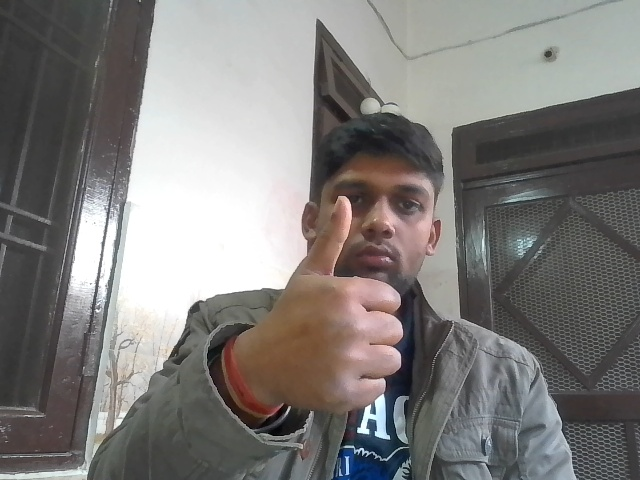BestOfLuck: (282, 193, 408, 409)
